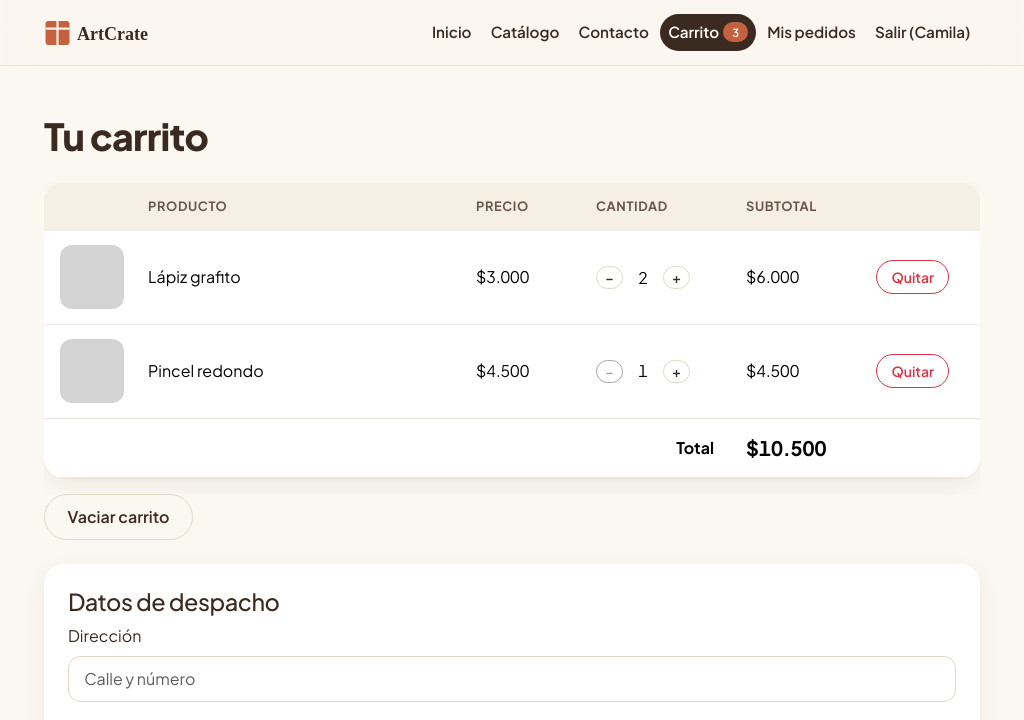
Carrito › quitar un producto lo saca de la lista y recalcula el total y el contador
This screenshot has width=1024, height=720.
Expected: the row "Lápiz grafito $3.000 − 2 + $6.000 Quitar" is shown, [44,231,980,324]
Click the button "Quitar" in the row of "Lápiz grafito". click: (913, 277)
box: [876,260,950,294]
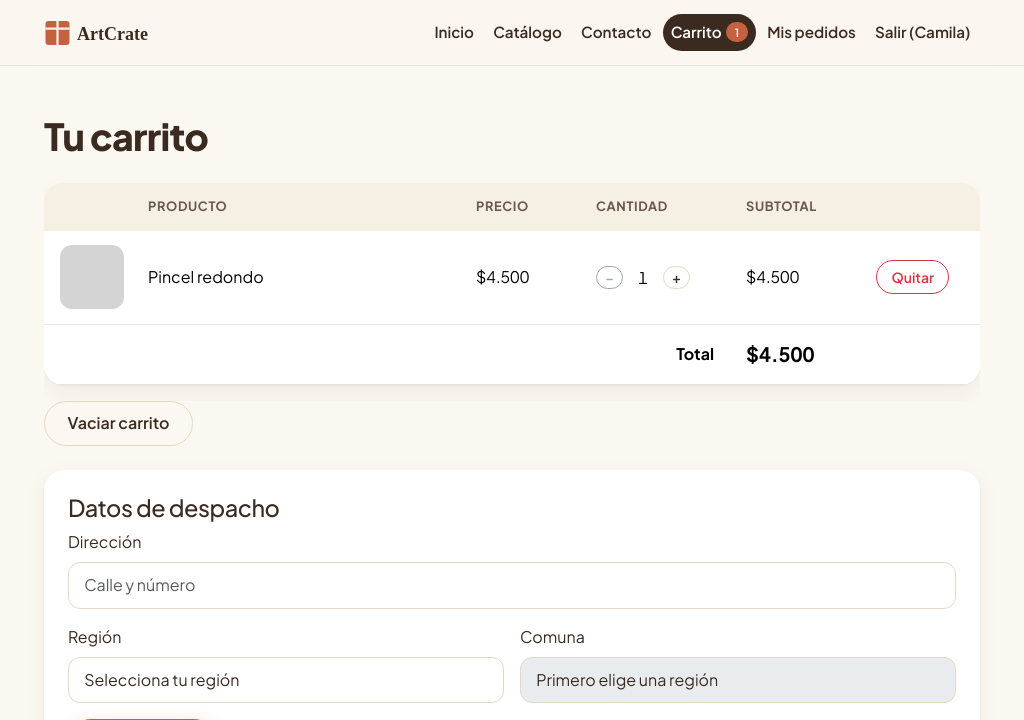
Now the cell "Lápiz grafito" is gone
Now the column heading "$4.500" is shown, box [730,324,860,384]
Now the text named "1 productos en el carrito" is shown, box [726,22,748,42]
